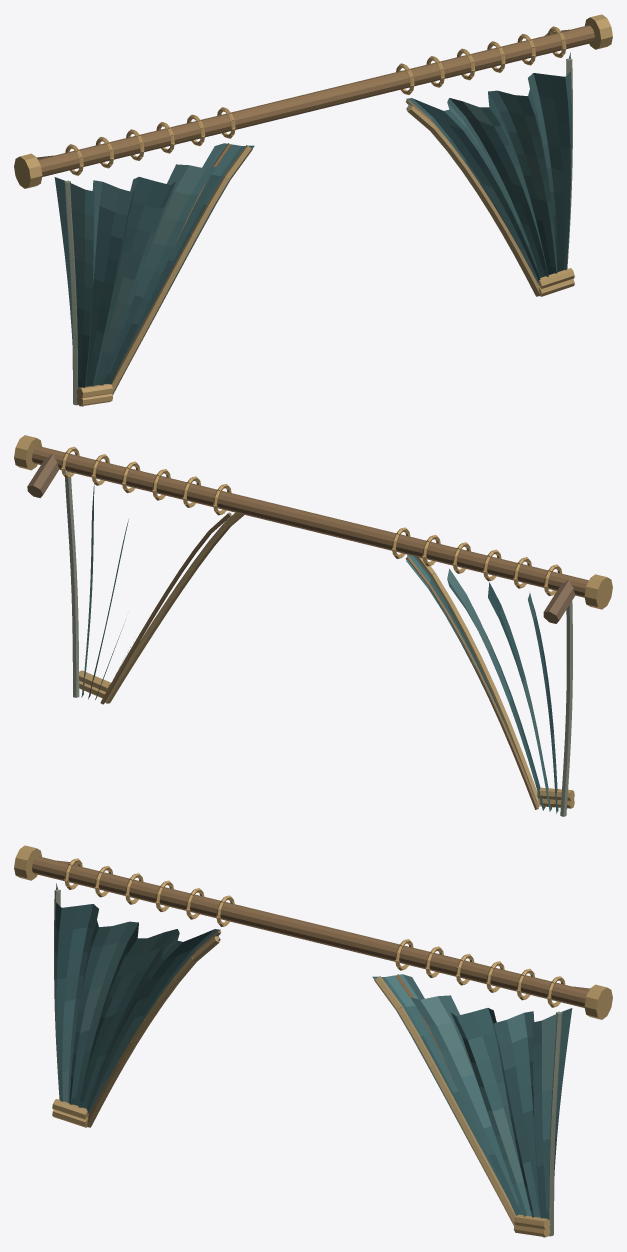
File: window_drapery.glb
3 views of the same model, one above another, from view 1: azimuth 30°, elevation 25°; view 2: azimuth 150°, elevation 25°; view 3: azimuth 330°, elevation 25° (orthographic).
Parts seen in each view (by area): view 1: window_drapery; view 2: window_drapery; view 3: window_drapery.
Boxes of the visible parts, x1,y1,x2,y2 form: window_drapery: [14, 14, 612, 406]; window_drapery: [14, 435, 612, 816]; window_drapery: [14, 845, 612, 1237].
Size of the model in its own units: 2.46 by 1.03 by 0.3001.
